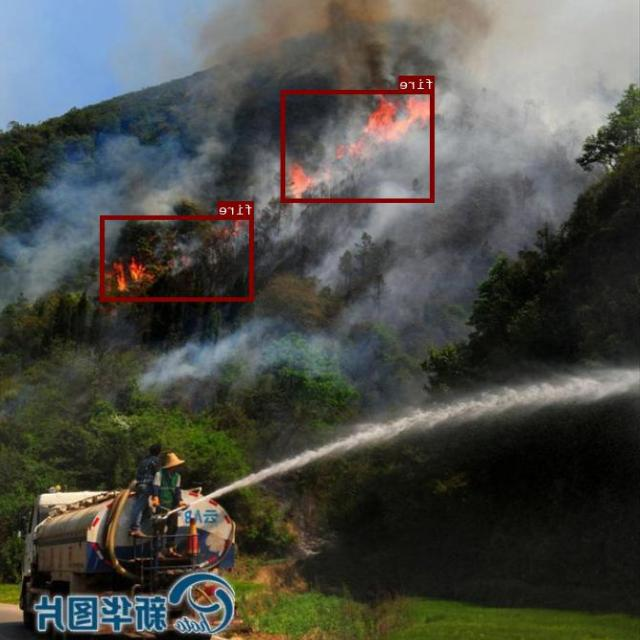fire: (282, 90, 435, 202), (101, 215, 254, 300)
